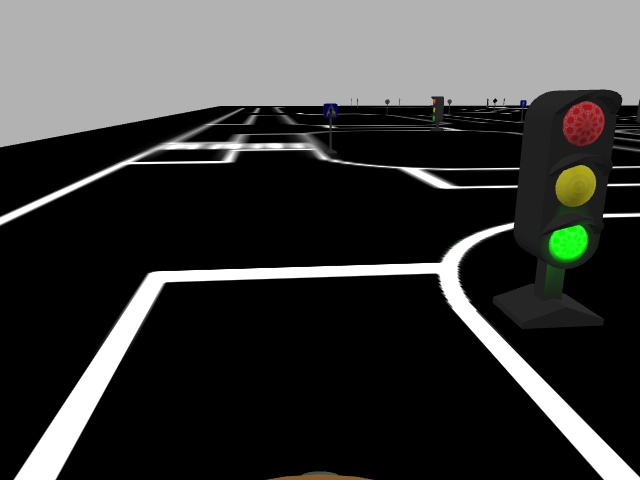green_light: (524, 81, 627, 271)
